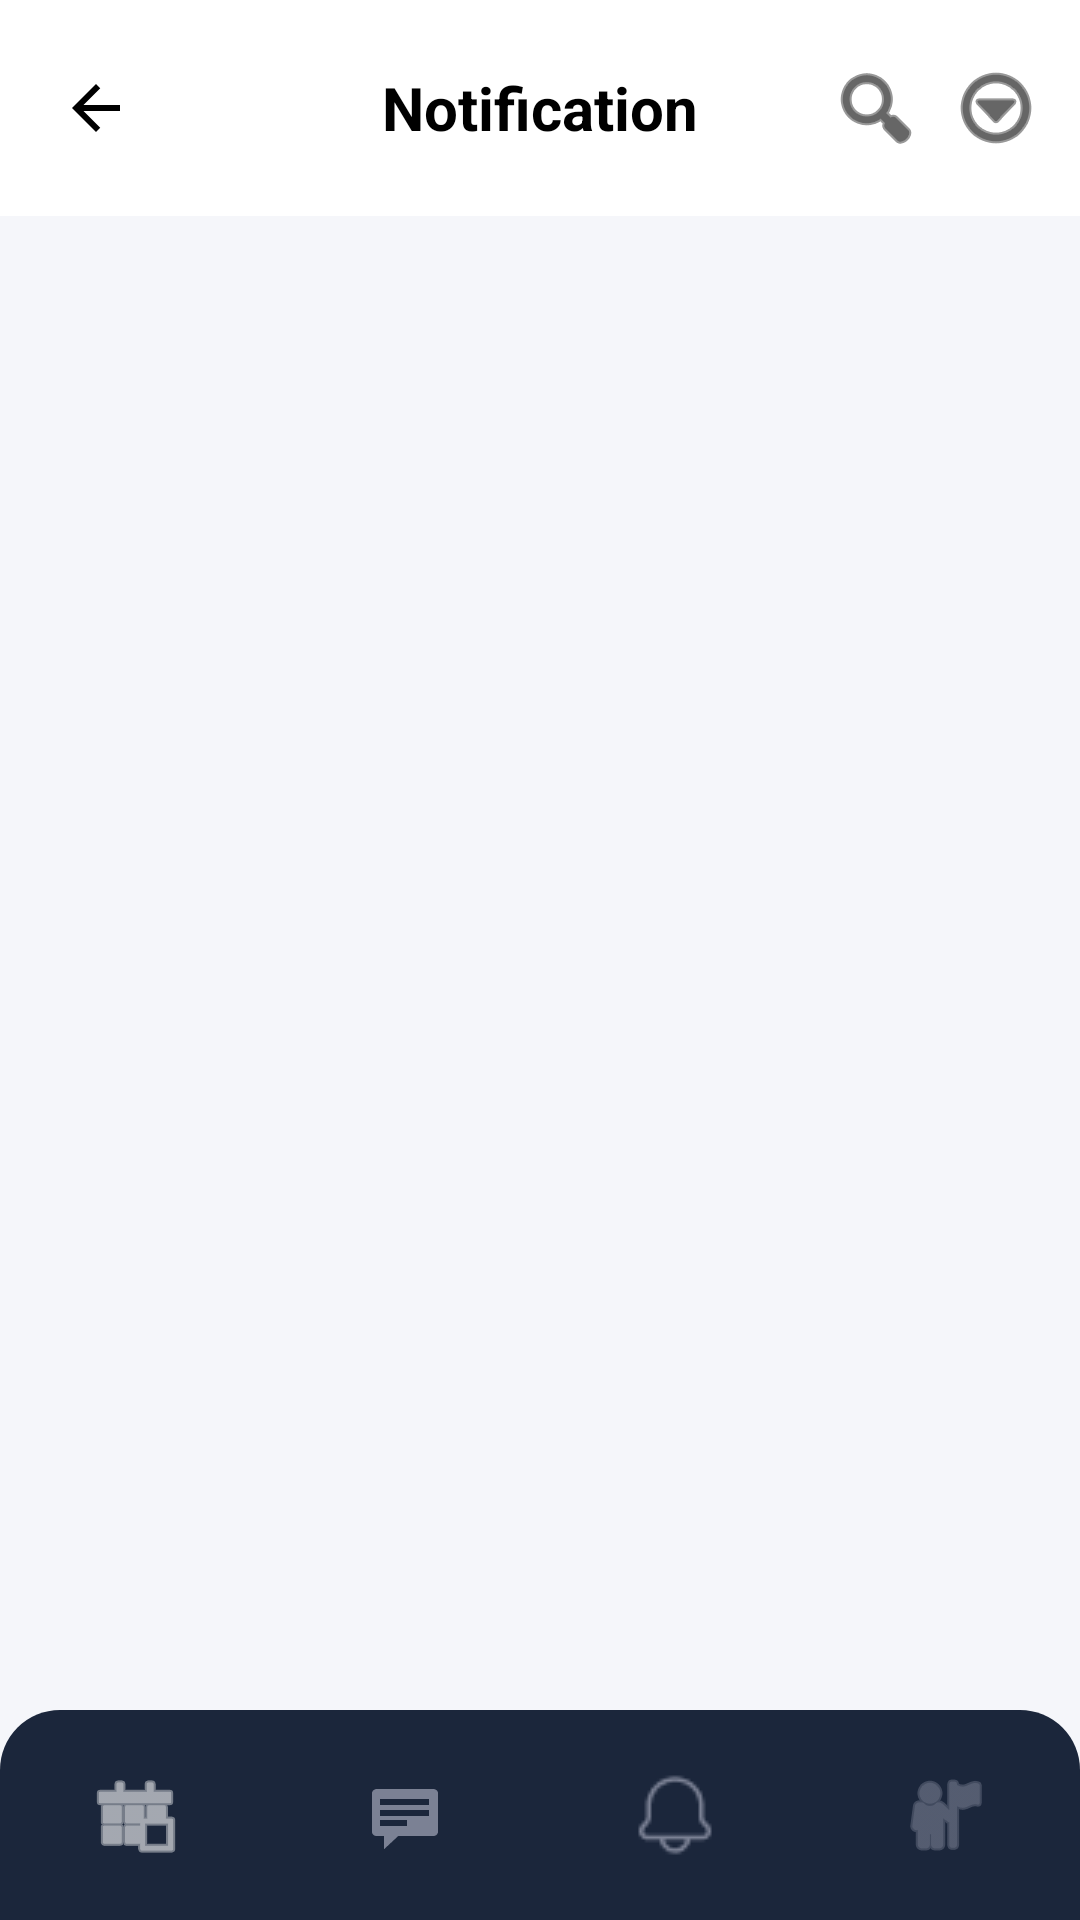

Named icons in this screenshot (1080x1920) and their bounding boxes, Rect(x1, y1, x2, y2):
Back Button: Rect(72, 84, 120, 132)
Chat: Rect(372, 1789, 438, 1849)
More Options: Rect(960, 72, 1032, 144)
Notifications: Rect(638, 1776, 712, 1854)
Search Icon: Rect(840, 73, 912, 144)
